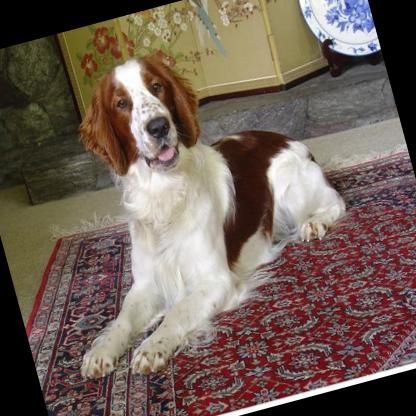Welsh_springer_spaniel: (0, 11, 376, 393)
